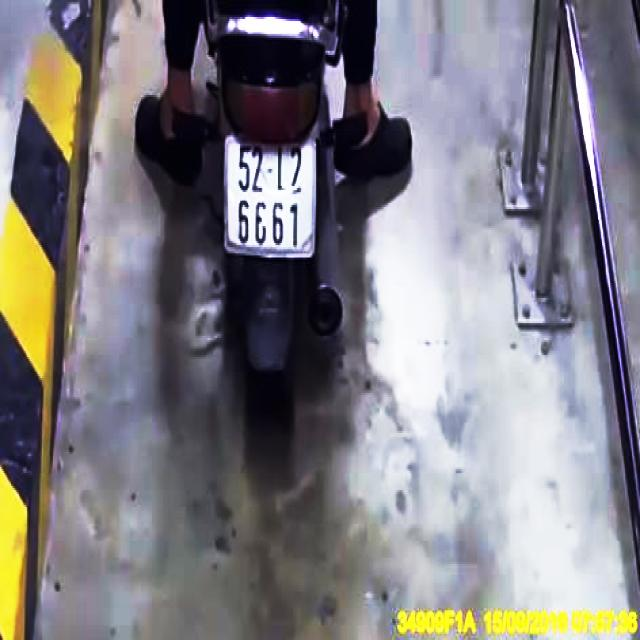license_plate: (227, 139, 315, 258)
